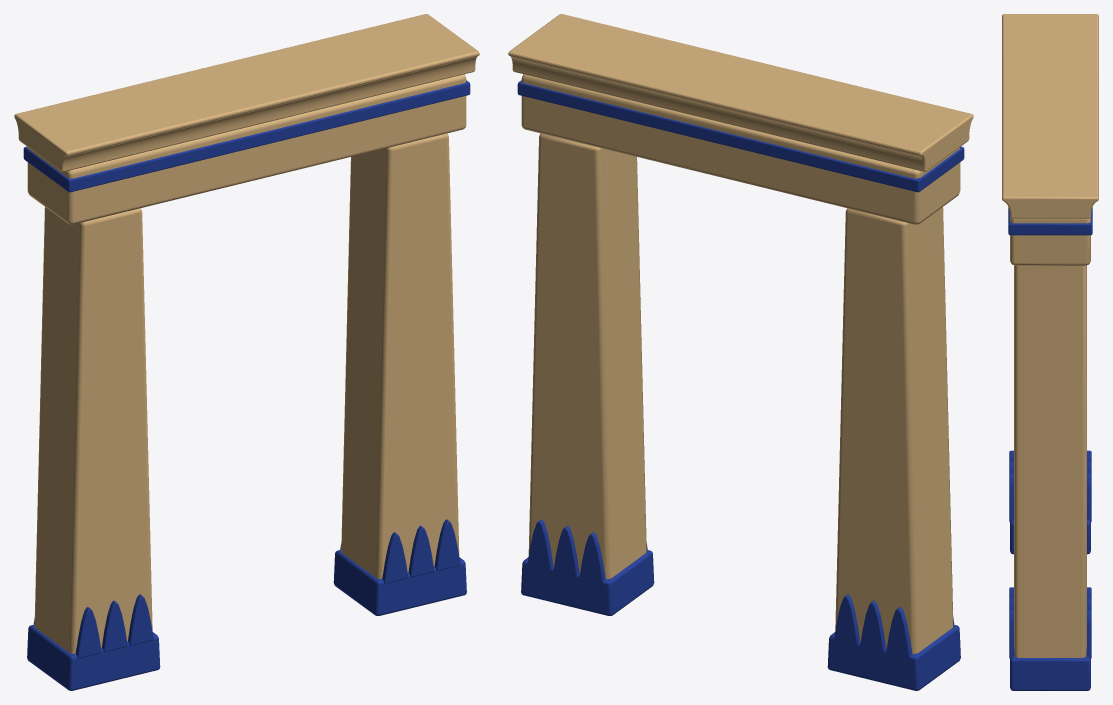
File: K_BellPylon.fbx
3 renders of one model, left to right at view 1: azimuth 30°, elevation 25°; view 2: azimuth 150°, elevation 25°; view 3: azimuth 270°, elevation 25°, orthographic. The views are drawn at different scales.
Parts seen in each view (by area): view 1: K_BellPylon; view 2: K_BellPylon; view 3: K_BellPylon.
Boxes of the visible parts, box(x1,y1,x2,y2) form: K_BellPylon: box(14, 14, 479, 690); K_BellPylon: box(508, 14, 973, 690); K_BellPylon: box(1002, 14, 1098, 690).
Size of the model in its own units: 2.7 by 3.4 by 0.6.
